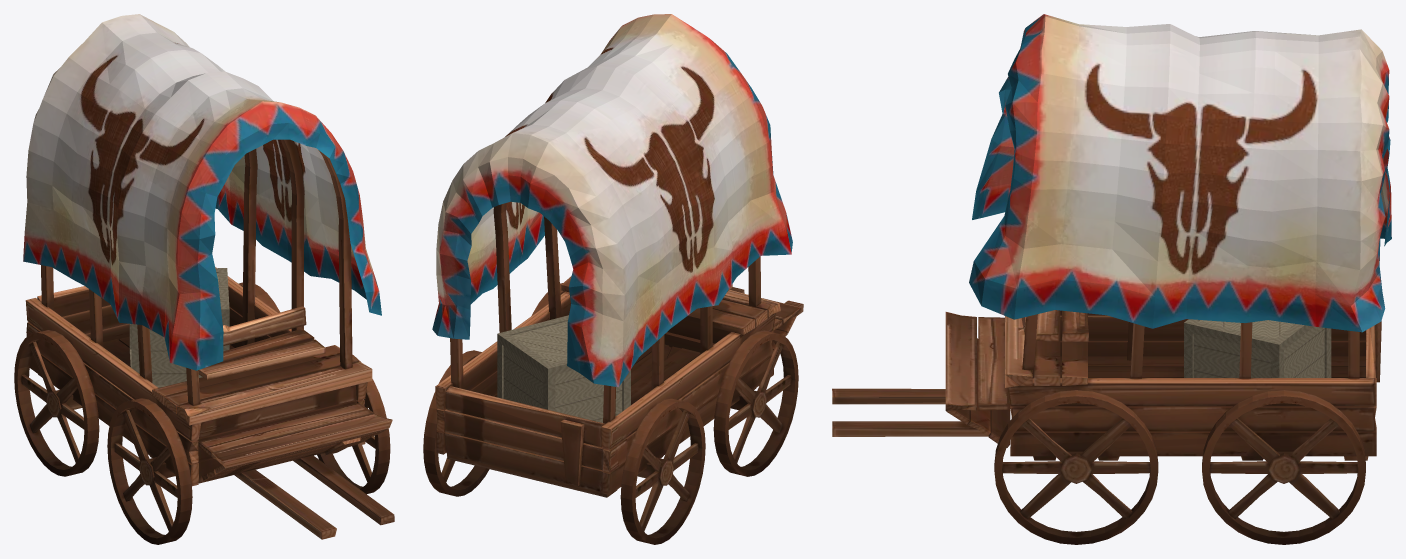
Rendered from opus55_t01.glb.
3 views of the same model, side by side, from view 1: azimuth 30°, elevation 25°; view 2: azimuth 150°, elevation 25°; view 3: azimuth 270°, elevation 25° (orthographic). The views are drawn at different scales.
Parts seen in each view (by area): view 1: slot_canvas_top, slot_anchor_frame, slot_front_wheels, slot_bed_crate; view 2: slot_canvas_top, slot_anchor_frame, slot_bed_crate, slot_front_wheels; view 3: slot_canvas_top, slot_anchor_frame, slot_front_wheels, slot_bed_crate.
Part boxes in pixels (x1,y1,x2,y2): slot_canvas_top: [23, 14, 381, 370]; slot_anchor_frame: [14, 139, 394, 539]; slot_front_wheels: [107, 354, 390, 544]; slot_bed_crate: [129, 268, 229, 387]; slot_canvas_top: [432, 14, 792, 387]; slot_anchor_frame: [423, 203, 803, 544]; slot_bed_crate: [497, 315, 630, 422]; slot_front_wheels: [531, 283, 798, 476]; slot_canvas_top: [969, 14, 1391, 332]; slot_anchor_frame: [832, 310, 1381, 544]; slot_front_wheels: [994, 390, 1158, 544]; slot_bed_crate: [1184, 319, 1331, 377].
Bounding box in the file's own units: 0.9702 × 1.86 × 2.
3 materials, 3 textured.
